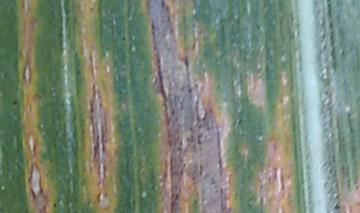tarspot: (10, 99, 19, 106), (52, 202, 58, 207), (122, 35, 126, 42)
